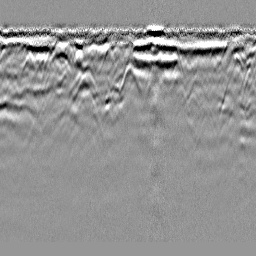cavity: (119, 60, 141, 96)
